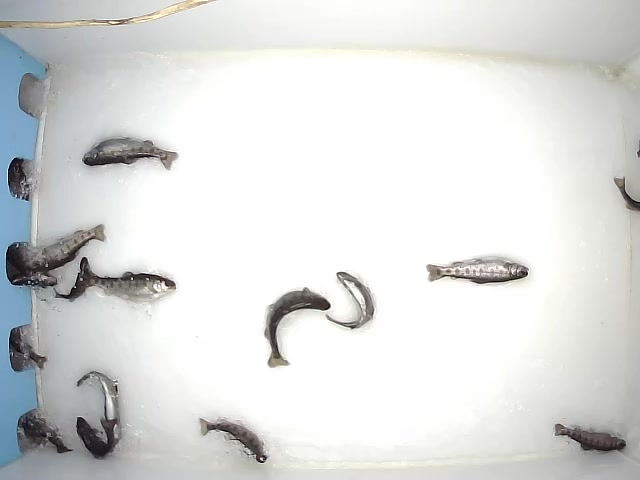fish: (261, 285, 331, 369), (9, 221, 106, 270), (78, 135, 179, 171), (77, 269, 176, 304), (424, 253, 529, 285), (322, 270, 375, 330), (198, 416, 267, 462), (74, 369, 120, 434), (553, 422, 626, 453), (73, 415, 119, 461), (52, 257, 89, 301)
